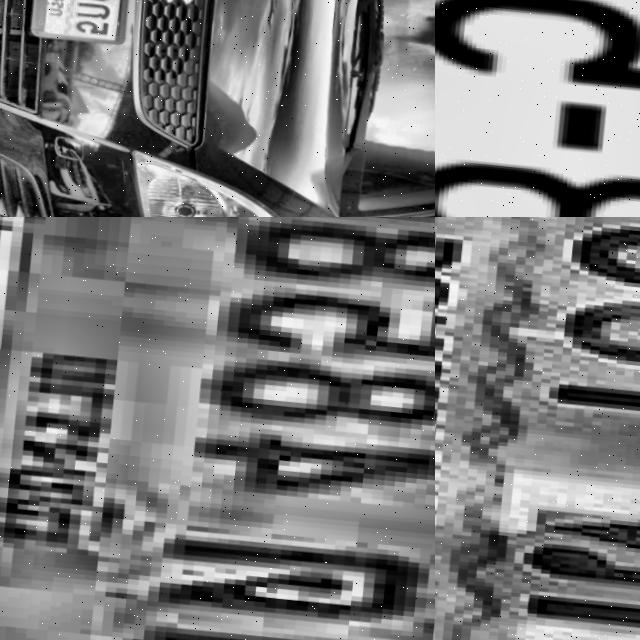license-plate: (0, 217, 435, 640), (435, 217, 640, 640), (435, 0, 640, 217), (25, 0, 139, 46)
